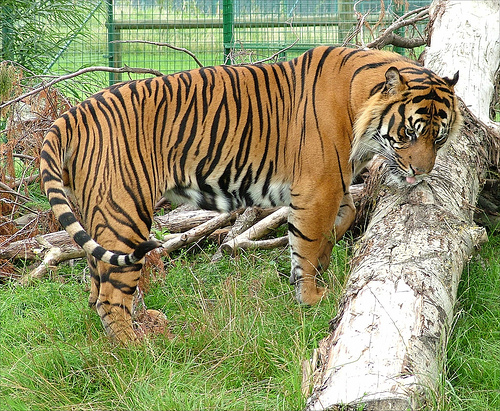Tigre: (38, 47, 473, 352)
